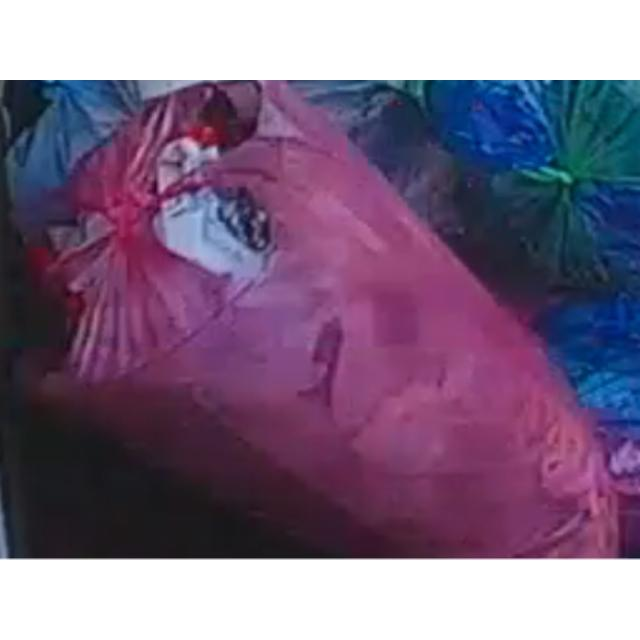other_trashbag: (28, 82, 616, 561)
